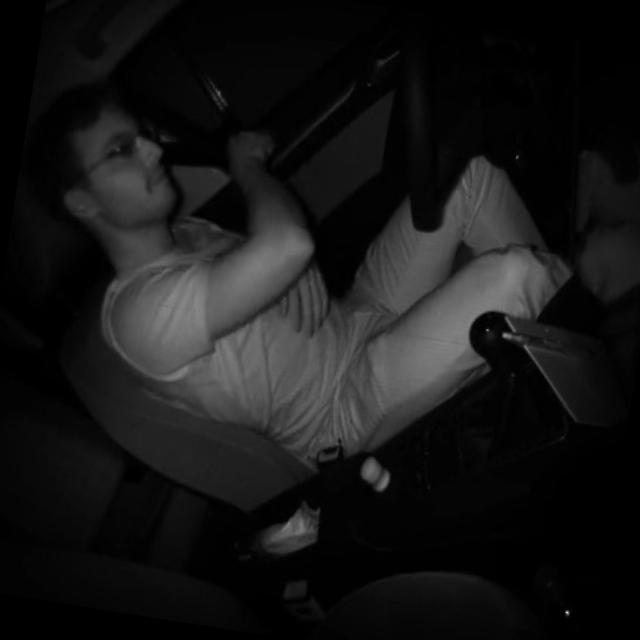pen: (499, 329, 601, 360)
